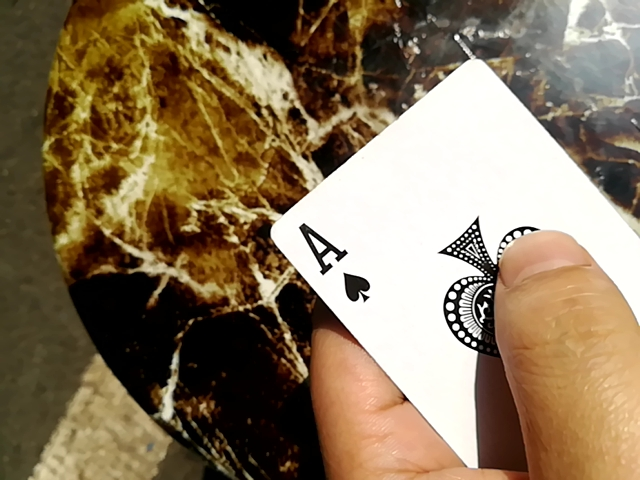ht a: (270, 63, 625, 476)
